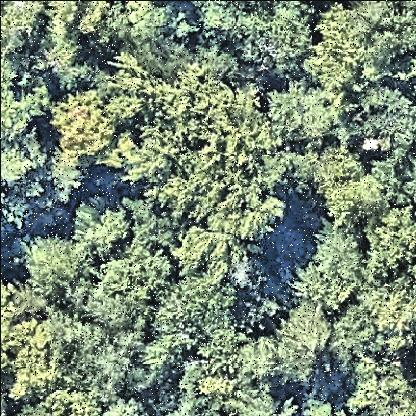tree-top: (96, 61, 290, 243), (45, 282, 148, 388), (227, 301, 339, 389), (202, 2, 317, 82), (146, 284, 239, 372), (109, 2, 192, 86), (302, 143, 384, 228), (1, 281, 54, 403), (292, 221, 362, 313), (173, 223, 263, 293), (1, 141, 67, 224), (95, 241, 177, 305), (262, 82, 348, 143), (353, 79, 416, 160), (12, 233, 86, 301), (54, 92, 120, 166), (1, 45, 51, 137), (362, 201, 416, 280), (330, 302, 390, 372), (357, 1, 416, 71), (67, 201, 135, 261), (361, 279, 416, 353), (346, 358, 416, 416), (40, 17, 90, 95), (11, 388, 147, 416), (225, 373, 299, 416), (322, 1, 364, 65), (2, 5, 49, 49)
